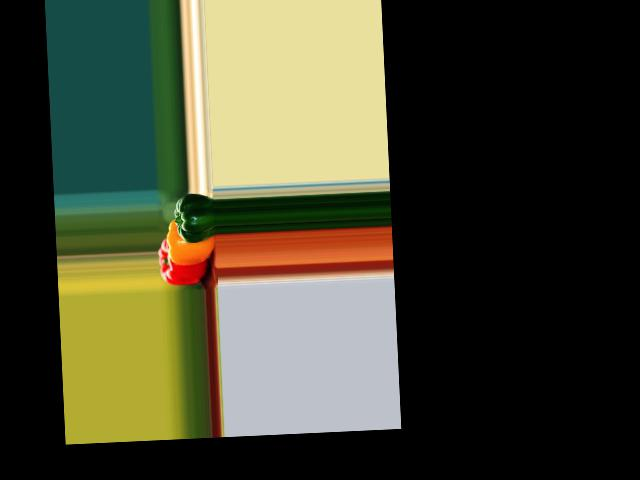bell_pepper: (158, 236, 215, 285)
